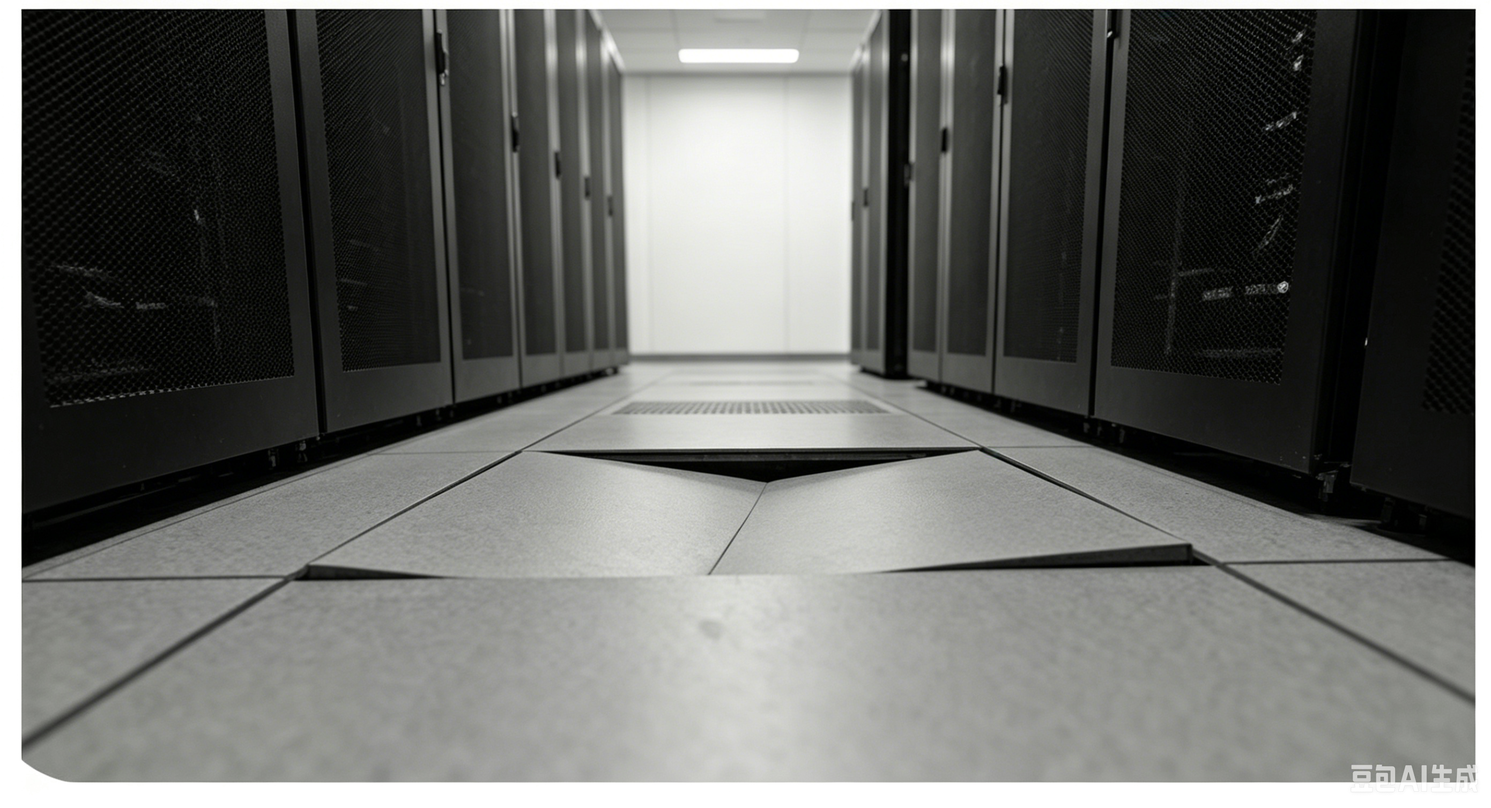floor_defect: (288, 444, 1222, 581)
